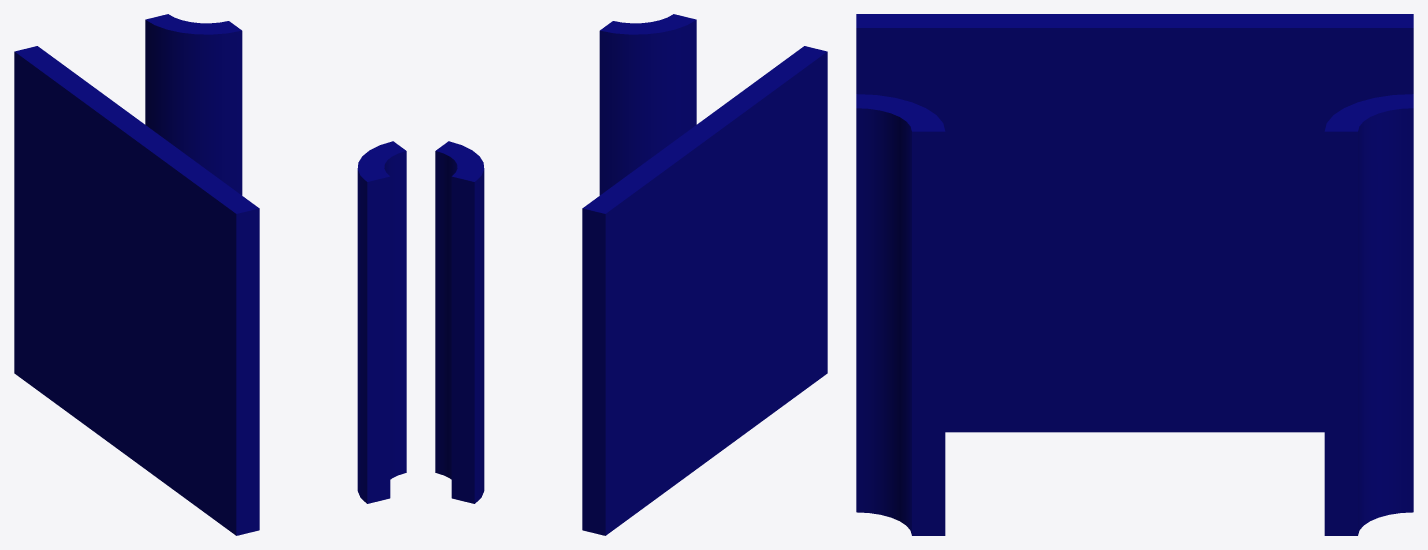
The model's file is Wall09.FBX.
3 views of the same model, side by side, from view 1: azimuth 30°, elevation 25°; view 2: azimuth 150°, elevation 25°; view 3: azimuth 270°, elevation 25° (orthographic). The views are drawn at different scales.
Parts seen in each view (by area): view 1: Wall09; view 2: Wall09; view 3: Wall09.
Boxes of the visible parts, x1=… form: Wall09: x1=14, y1=14, x2=406, y2=535; Wall09: x1=435, y1=14, x2=827, y2=535; Wall09: x1=856, y1=14, x2=1413, y2=535.
Size of the model in its own units: 50 by 80 by 100.
1 material, 1 textured.
